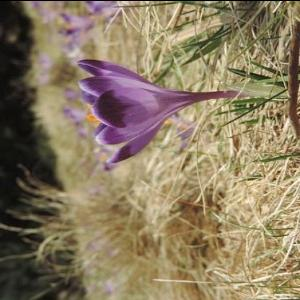Saffron: (80, 61, 198, 167)
